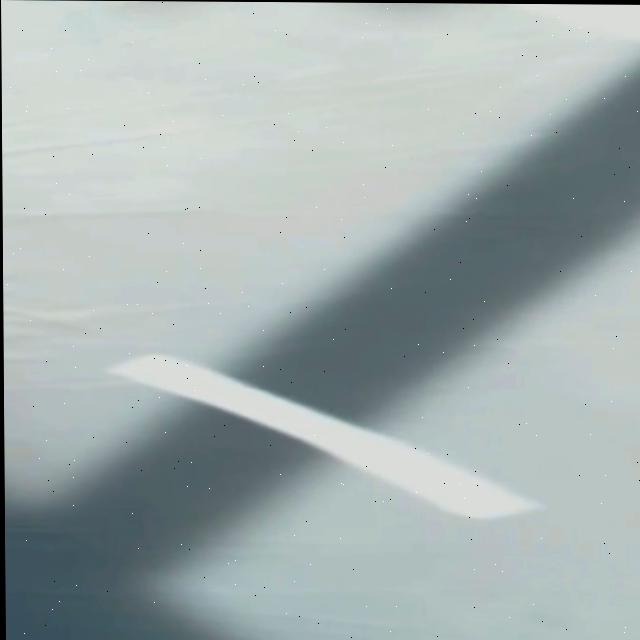center: (112, 356, 537, 519)
